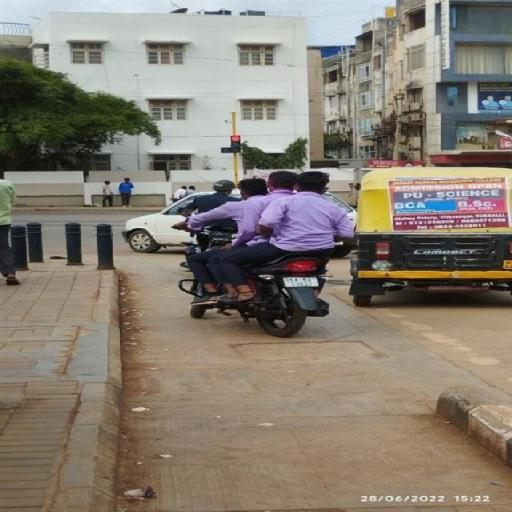tripple riding: (194, 168, 354, 251)
